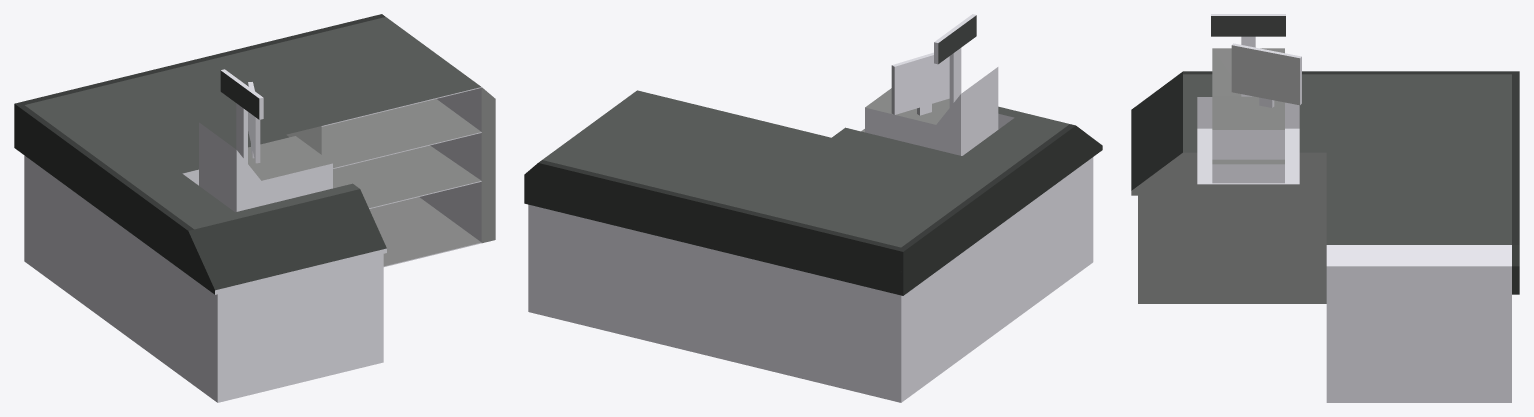
File: CounterCashier.fbx
The picture shows the model from 3 angles, left to right: view 1: azimuth 30°, elevation 25°; view 2: azimuth 150°, elevation 25°; view 3: azimuth 270°, elevation 25°; orthographic projection. The views are drawn at different scales.
Parts seen in each view (by area): view 1: Cube.002; view 2: Cube.002; view 3: Cube.002.
Part boxes in pixels (<box>): Cube.002: <box>14,14,495,402</box>; Cube.002: <box>524,14,1102,402</box>; Cube.002: <box>1131,14,1519,402</box>.
Size of the model in its own units: 460 by 297 by 419.
